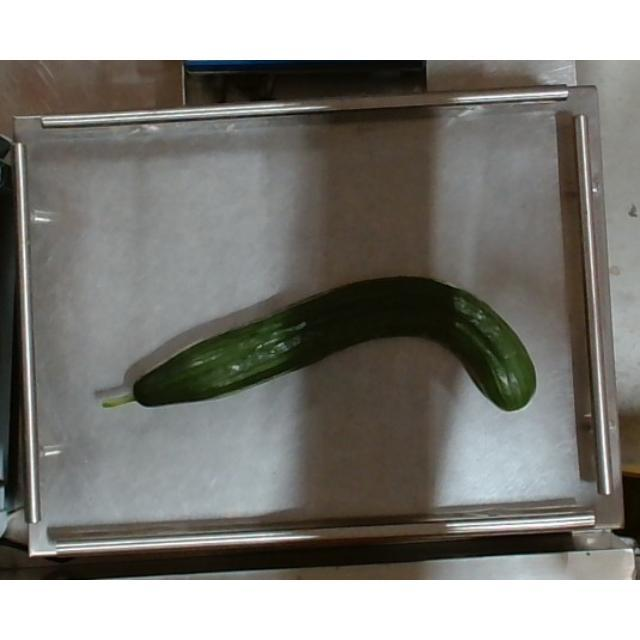cucumber: (95, 278, 551, 414)
